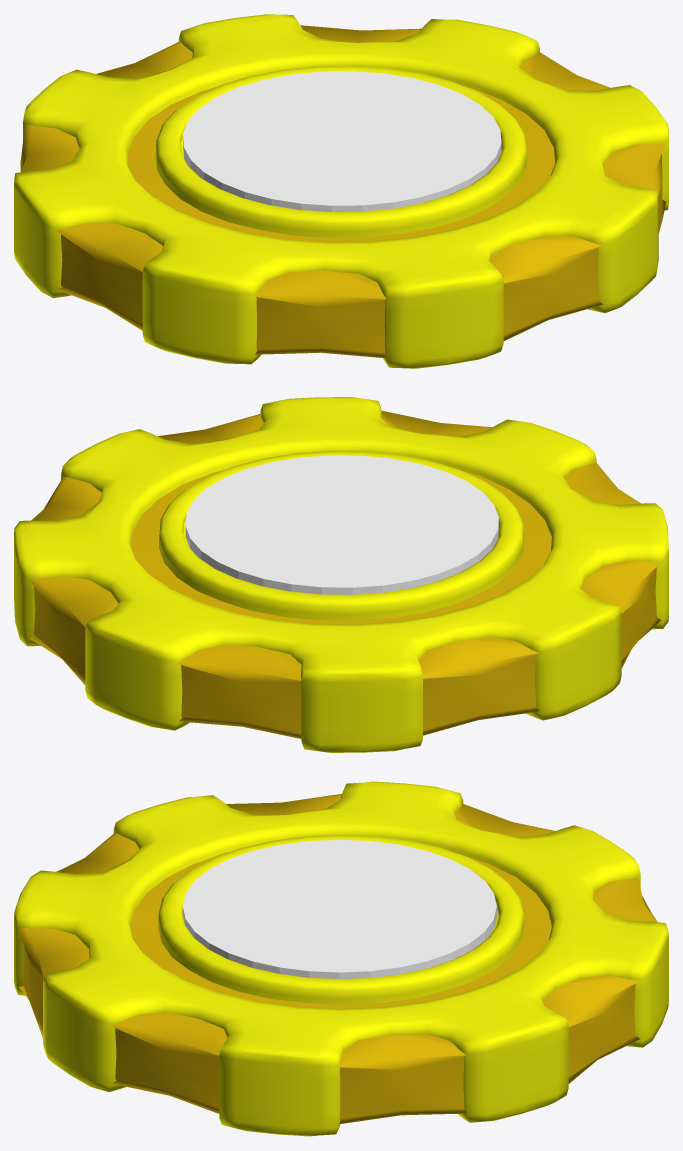
Rendered from lightningtrap.fbx.
3 renders of one model, top to bottom at view 1: azimuth 30°, elevation 25°; view 2: azimuth 150°, elevation 25°; view 3: azimuth 270°, elevation 25°, orthographic.
Visible parts, largest first — view 1: ChipCase, ChipBase, Cylinder.001; view 2: ChipCase, ChipBase, Cylinder.001; view 3: ChipCase, ChipBase, Cylinder.001.
Part boxes in pixels (left/top/right/bottom): ChipCase: left=14, top=14, right=668, bottom=368; ChipBase: left=20, top=25, right=666, bottom=358; Cylinder.001: left=183, top=71, right=501, bottom=211; ChipCase: left=14, top=397, right=668, bottom=752; ChipBase: left=29, top=410, right=661, bottom=738; Cylinder.001: left=185, top=455, right=498, bottom=594; ChipCase: left=14, top=781, right=668, bottom=1136; ChipBase: left=18, top=794, right=657, bottom=1124; Cylinder.001: left=182, top=839, right=496, bottom=979.
Bounding box in the file's own units: 223 × 38.4 × 223.
